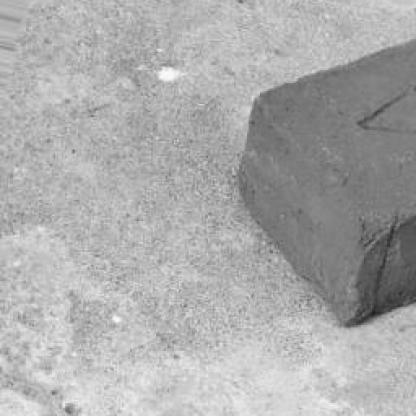brick: (234, 39, 414, 330)
